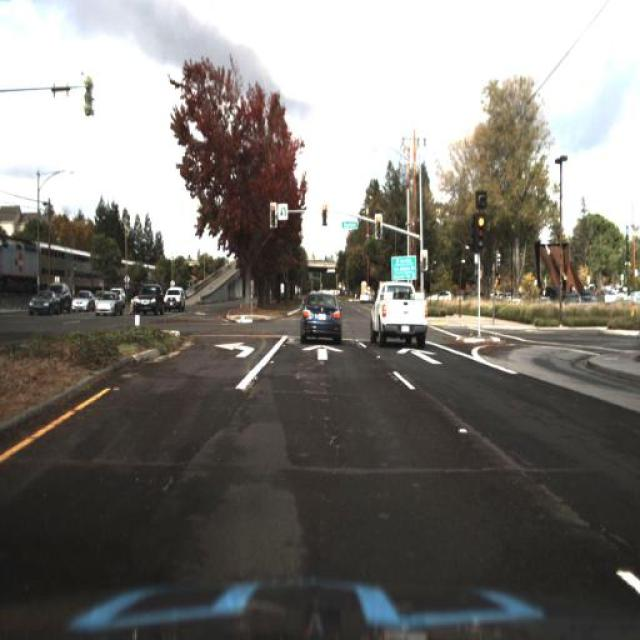car: (371, 275, 430, 346), (296, 286, 339, 340), (29, 286, 62, 322), (134, 280, 160, 320), (28, 285, 60, 317), (133, 285, 159, 319), (94, 288, 120, 320), (161, 282, 187, 312), (93, 288, 119, 314), (162, 282, 186, 310), (57, 283, 75, 315), (72, 287, 90, 314), (428, 285, 456, 300), (73, 290, 92, 309), (60, 280, 68, 320)
trafficLight-RedLeft: (475, 214, 486, 248), (267, 200, 279, 230), (316, 196, 332, 218), (476, 216, 486, 250), (373, 212, 385, 236), (373, 211, 383, 235), (320, 200, 329, 224)
trafficLight-Yellow: (268, 202, 281, 230)
